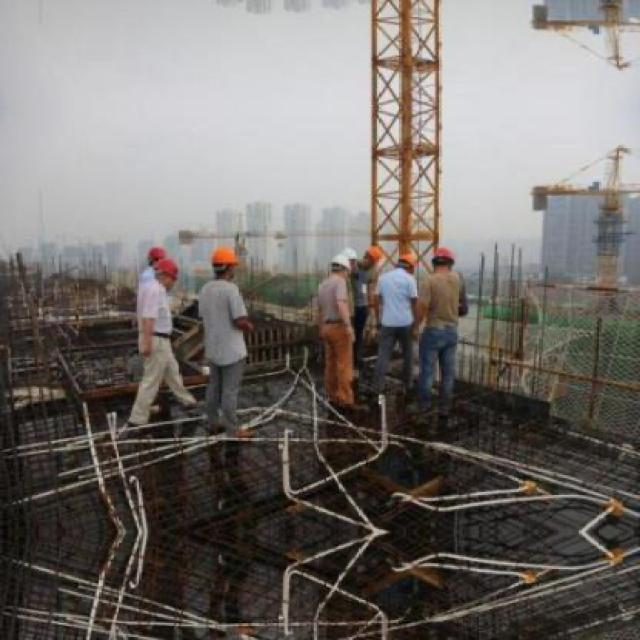con casco: (140, 242, 197, 301), (210, 238, 268, 286), (416, 238, 461, 298), (358, 232, 408, 280), (306, 250, 355, 294), (374, 250, 416, 298)
